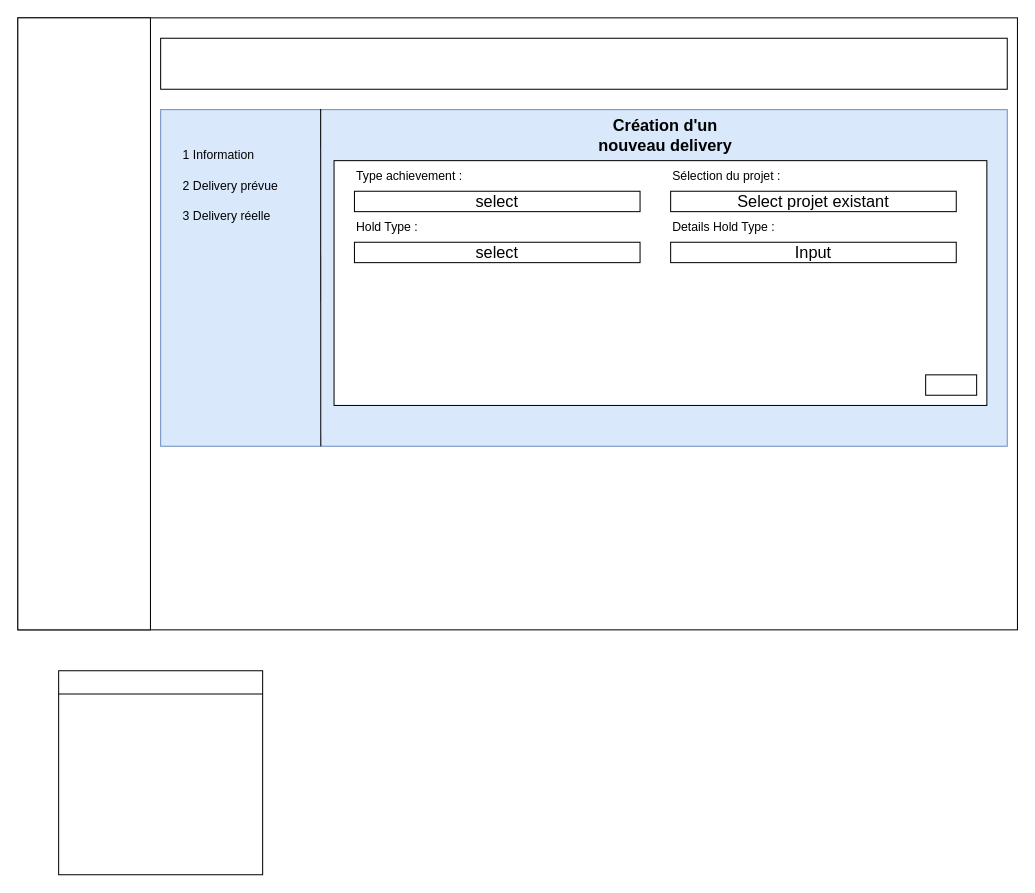
This 1035x893 diagram has some shape labels left out. The box of each missing label's shape, as (x1, y1, x2, y2) in pixels:
Commentaire(s) :: (58, 670, 263, 875)
Suivant: (925, 374, 977, 395)
